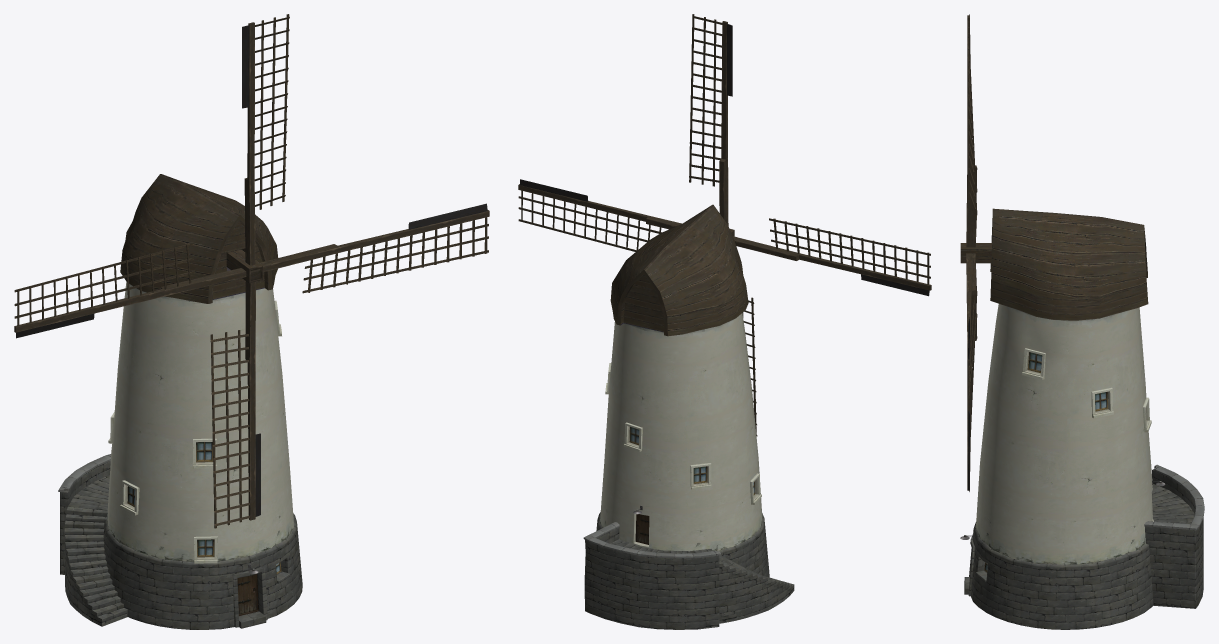
Rendered from windmill.fbx.
The picture shows the model from 3 angles, left to right: view 1: azimuth 30°, elevation 25°; view 2: azimuth 150°, elevation 25°; view 3: azimuth 270°, elevation 25°; orthographic projection. The views are drawn at different scales.
Visible parts, largest first — view 1: GEOM0_LOD0, GEOM1_LOD0; view 2: GEOM0_LOD0, GEOM1_LOD0; view 3: GEOM0_LOD0, GEOM1_LOD0.
Boxes of the visible parts, <box> form: GEOM0_LOD0: <box>58,174,302,629</box>; GEOM1_LOD0: <box>14,14,489,528</box>; GEOM0_LOD0: <box>583,204,794,629</box>; GEOM1_LOD0: <box>518,14,931,436</box>; GEOM0_LOD0: <box>960,208,1204,629</box>; GEOM1_LOD0: <box>960,14,992,491</box>.
Size of what is drawn, in the model's own units: 3016 by 3654 by 1413.
